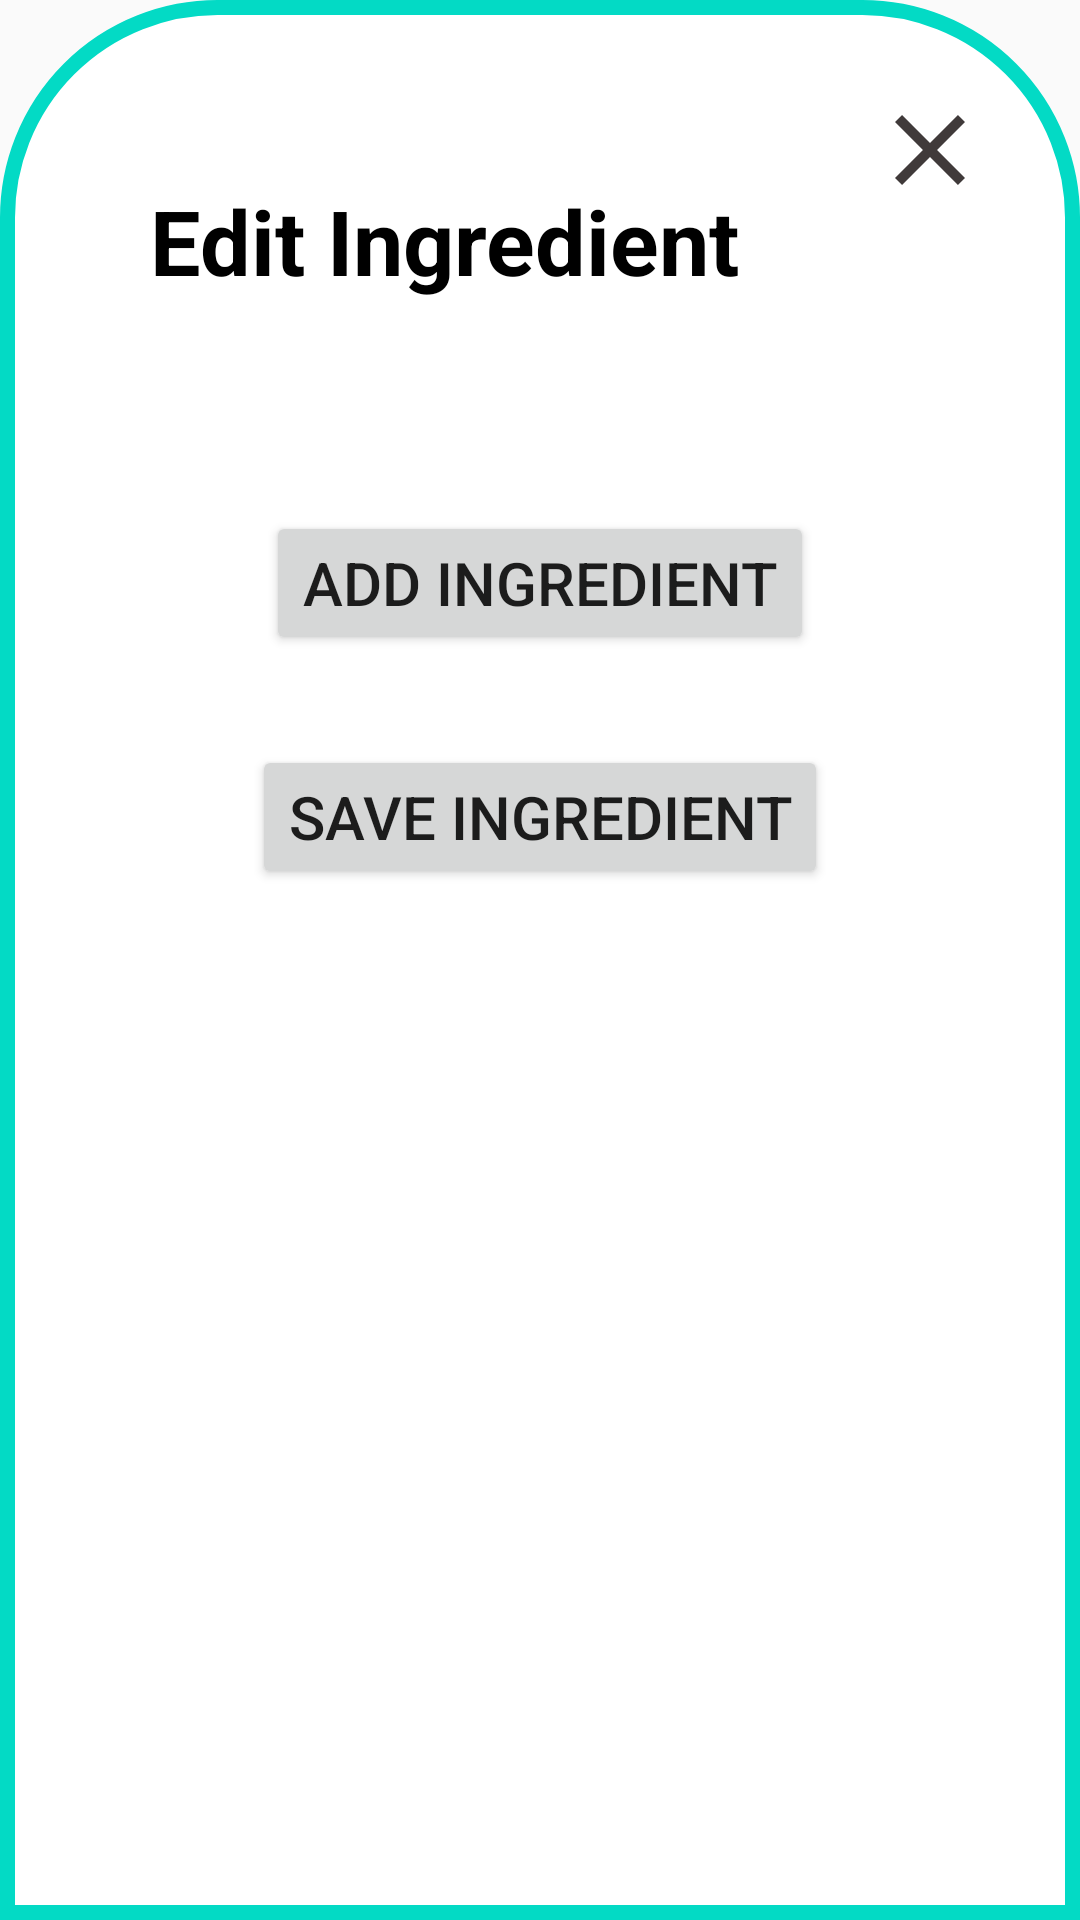

Screen size 1080*1920. Icon name, then its box in pixels as (x1, y1, x2, y2):
close: (895, 115, 965, 185)
